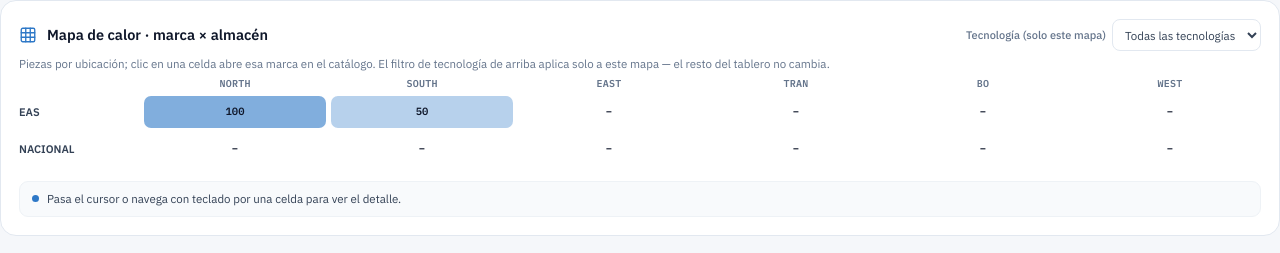
Test: DashboardHeatmapCard › cambiar a una tecnología pide GET /api/dashboard?tecnologia=X y reemplaza el heatmap con la respuesta
Select "RFID" in the dropdown labelled "Tecnología (solo este mapa)" at (1186, 35), box [1112,19,1261,51]
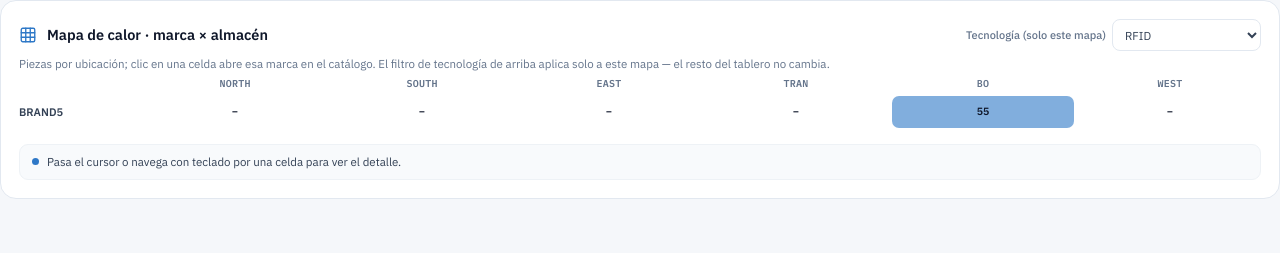
Check: the button named "BRAND5 · BO: 55 piezas" is shown, box [892,96,1074,128]
